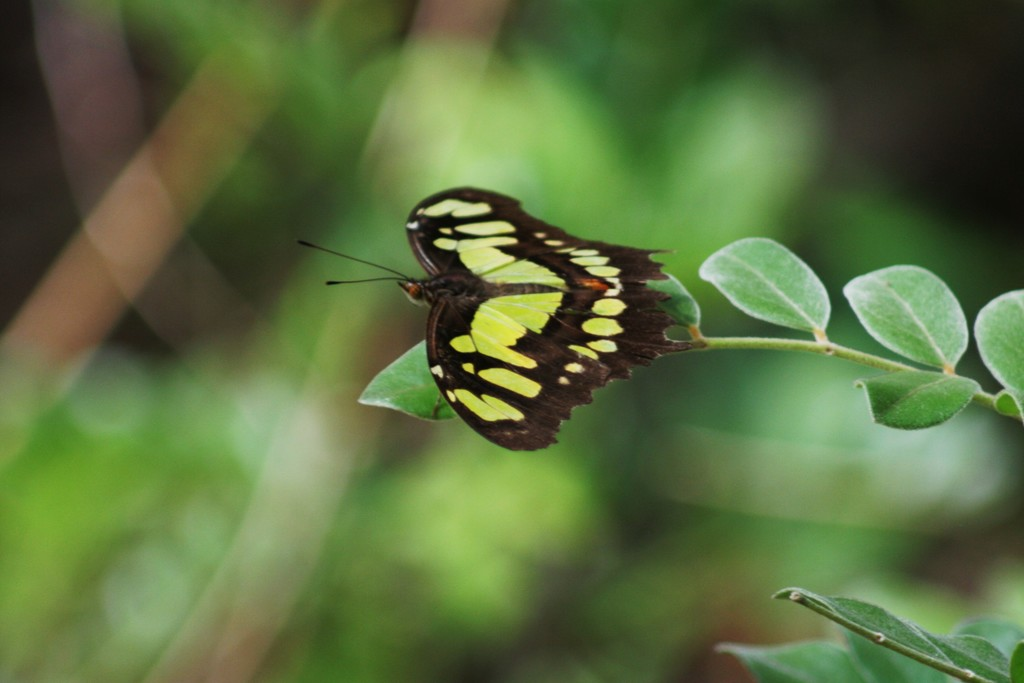Butterfly: (358, 160, 709, 453)
